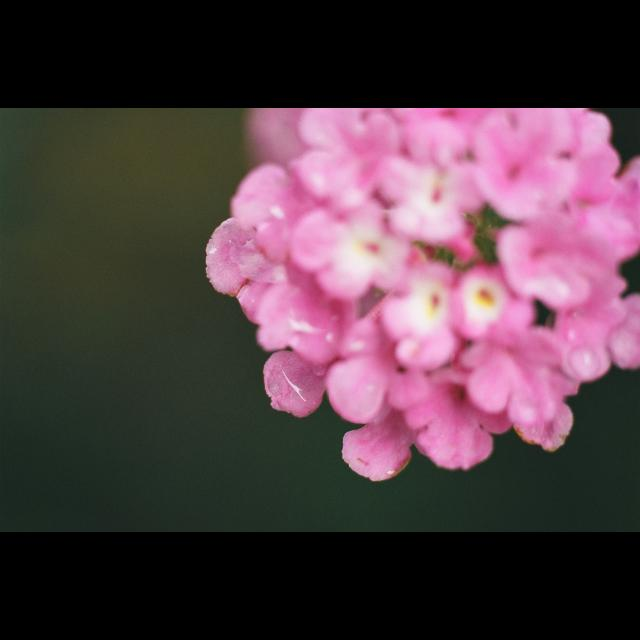Flower: (193, 108, 621, 496)
